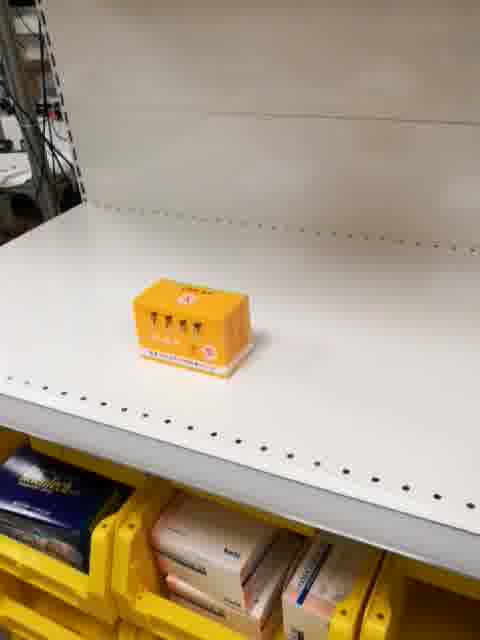jasminetea: (131, 276, 255, 380)
